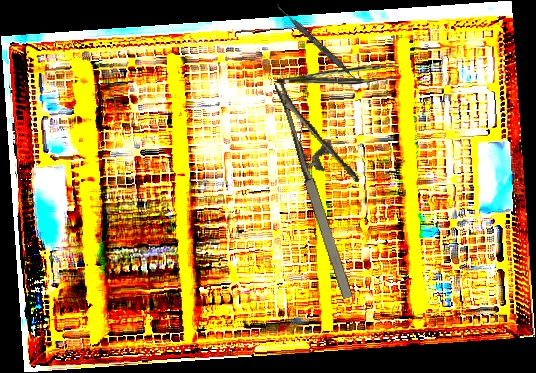Needle Holder: (273, 67, 390, 302)
Spatula Surgical: (273, 3, 362, 84)
Tissue Forceps: (277, 63, 399, 86)
